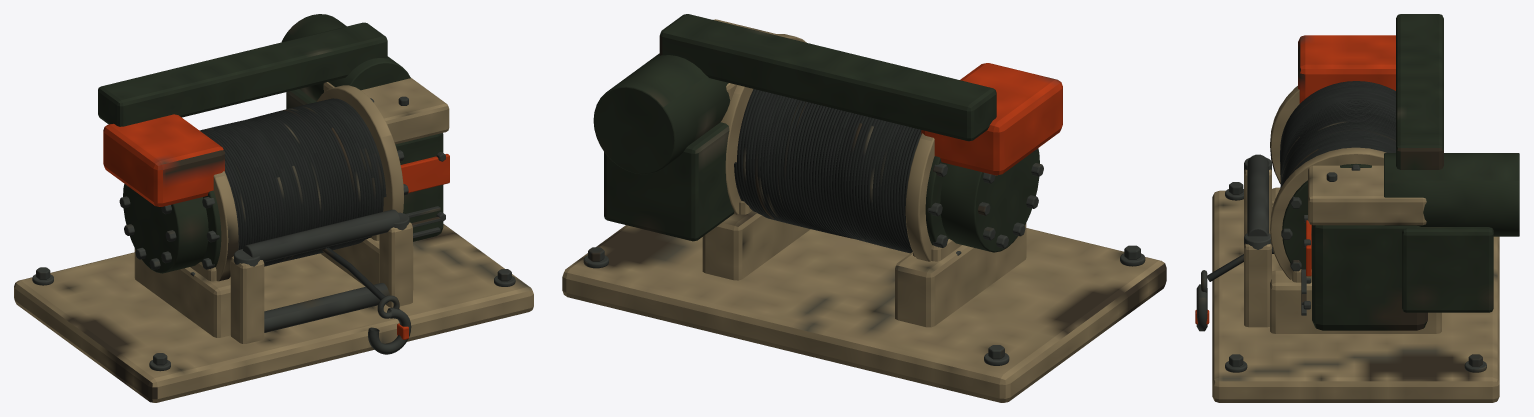
File: 36_power_winch.glb
The picture shows the model from 3 angles, left to right: view 1: azimuth 30°, elevation 25°; view 2: azimuth 150°, elevation 25°; view 3: azimuth 270°, elevation 25°; orthographic projection. The views are drawn at different scales.
Parts seen in each view (by area): view 1: Fixed_Body; view 2: Fixed_Body; view 3: Fixed_Body.
Part boxes in pixels (bbox=[...]): Fixed_Body: bbox=[14, 14, 533, 402]; Fixed_Body: bbox=[562, 14, 1166, 402]; Fixed_Body: bbox=[1195, 14, 1519, 402].
Size of the model in its own units: 1.14 by 0.635 by 0.8125.
Materials: 5 (5 with a texture image).
